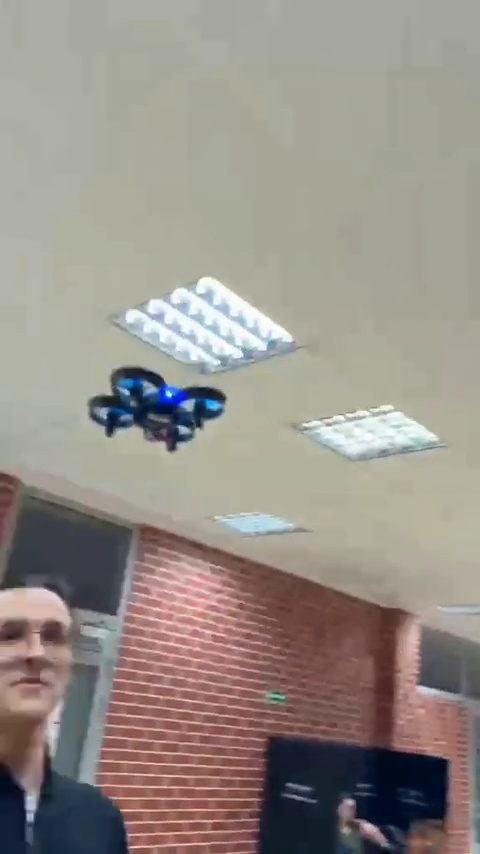drone: (89, 351, 224, 452)
no vest: (0, 574, 131, 848)
